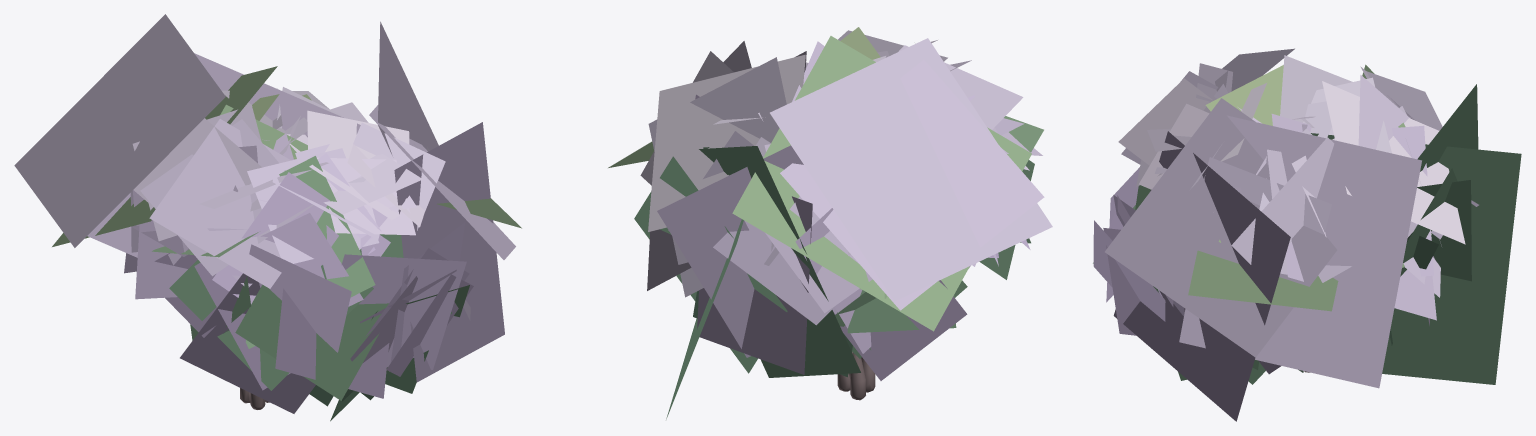
File: lilac_tree_v2.glb
3 renders of one model, left to right at view 1: azimuth 30°, elevation 25°; view 2: azimuth 150°, elevation 25°; view 3: azimuth 270°, elevation 25°, orthographic. The views are drawn at different scales.
Parts seen in each view (by area): view 1: near, far; view 2: far, near; view 3: far, near.
Boxes of the visible parts, x1=… form: near: x1=124, y1=87, x2=521, y2=421; far: x1=14, y1=14, x2=515, y2=382; far: x1=634, y1=36, x2=1052, y2=419; near: x1=608, y1=27, x2=1043, y2=400; far: x1=1105, y1=75, x2=1521, y2=421; near: x1=1093, y1=48, x2=1478, y2=384.
Size of the model in its own units: 10.49 by 7.61 by 9.25.
